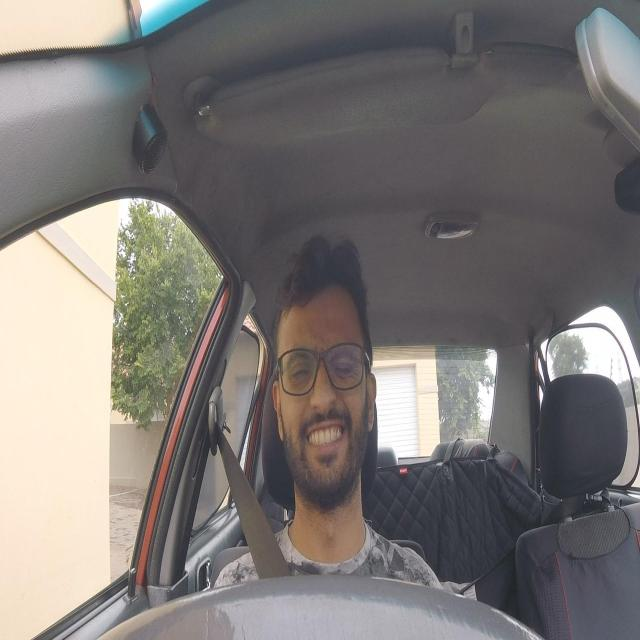close: (328, 346, 357, 390), (286, 348, 312, 391)
